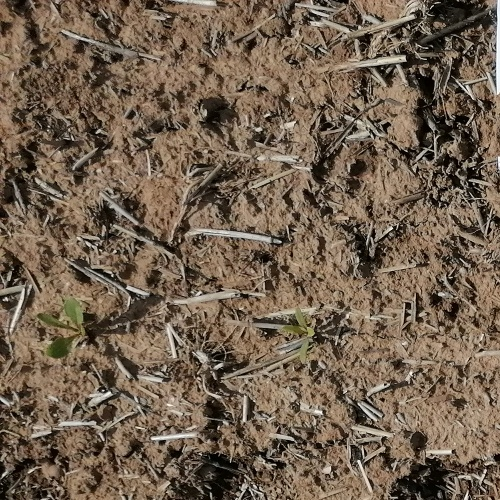beet: (34, 298, 85, 358), (280, 308, 319, 360)
